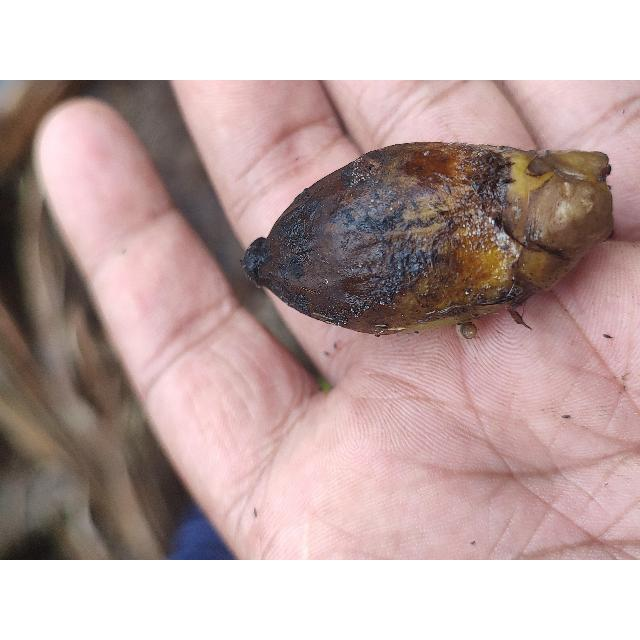damaged: (238, 142, 617, 338)
